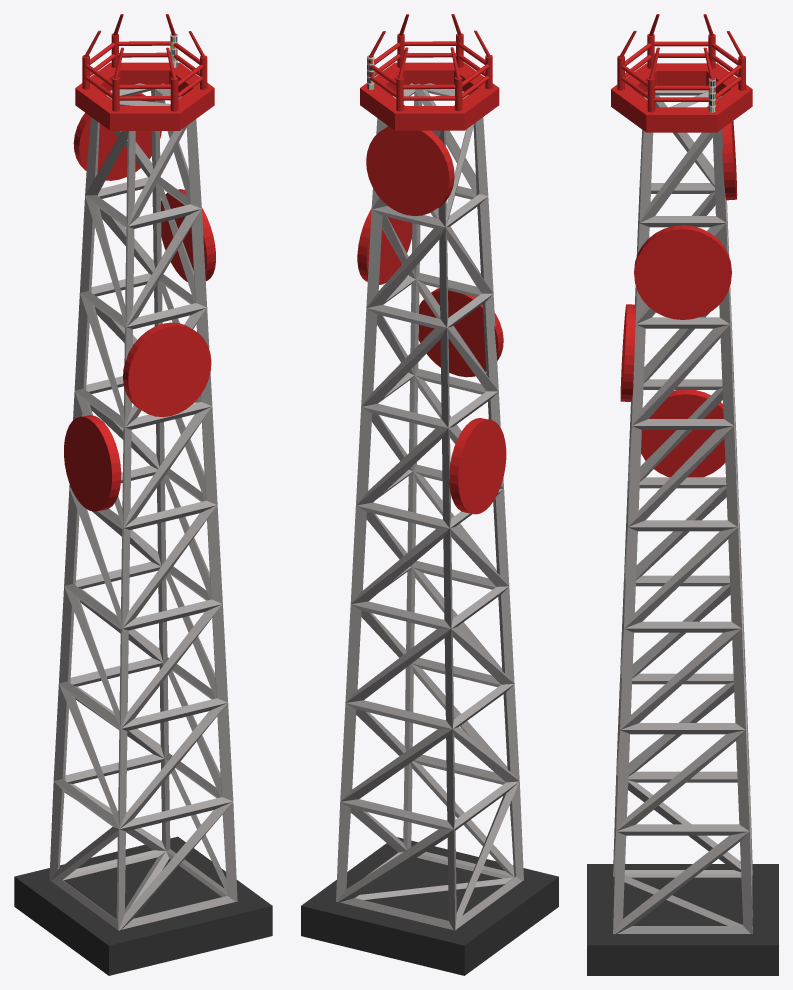
File: TORRE SINAL LOD.fbx
3 views of the same model, side by side, from view 1: azimuth 30°, elevation 25°; view 2: azimuth 150°, elevation 25°; view 3: azimuth 270°, elevation 25° (orthographic).
Parts seen in each view (by area): view 1: SINAL_LOD0; view 2: SINAL_LOD0; view 3: SINAL_LOD0.
Boxes of the visible parts, bbox=[...] form: SINAL_LOD0: bbox=[14, 14, 272, 975]; SINAL_LOD0: bbox=[301, 14, 558, 975]; SINAL_LOD0: bbox=[587, 14, 778, 975].
Size of what is drawn, in the model's own units: 289 by 1501 by 289.
